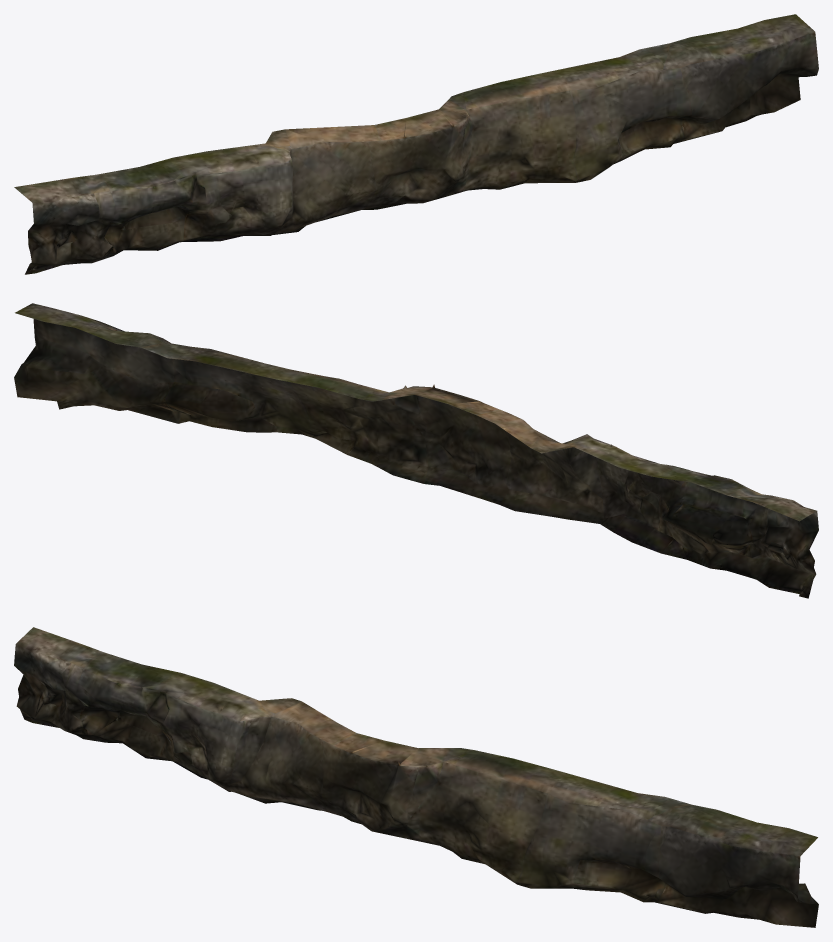
File: coastal_cliff_01_lod1.glb
3 views of the same model, one above another, from view 1: azimuth 30°, elevation 25°; view 2: azimuth 150°, elevation 25°; view 3: azimuth 330°, elevation 25° (orthographic). The views are drawn at different scales.
Visible parts, largest first — view 1: coastal_cliff_01; view 2: coastal_cliff_01; view 3: coastal_cliff_01.
Boxes of the visible parts, box(x1,y1,x2,y2) form: coastal_cliff_01: box(14, 14, 818, 274); coastal_cliff_01: box(14, 303, 818, 598); coastal_cliff_01: box(14, 627, 818, 927).
Size of the model in its own units: 91.82 by 10.21 by 10.78.
1 material, 1 textured.
